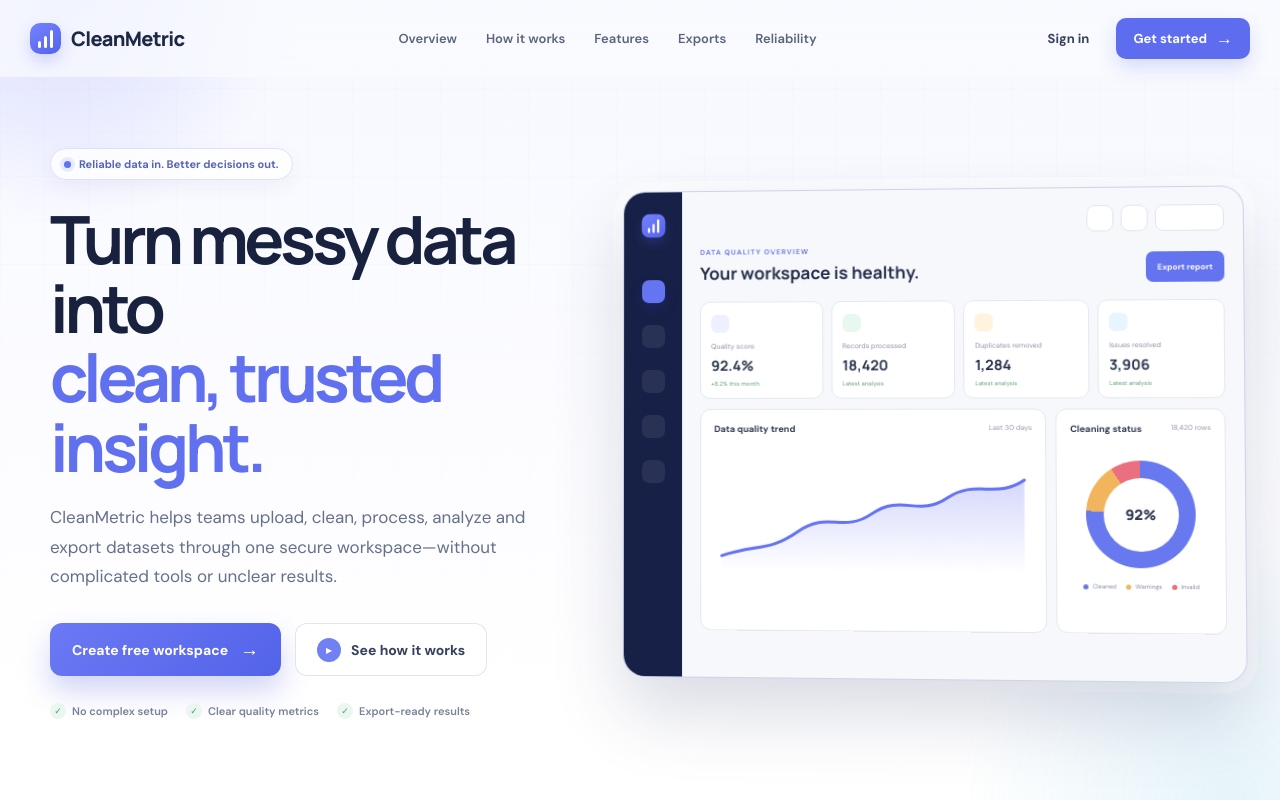
public CleanMetric website › opens the login page only after the sign-in action
The image size is (1280, 800).
Step 1. Click the link "Sign in" → (1068, 38), box [1048, 30, 1089, 46]
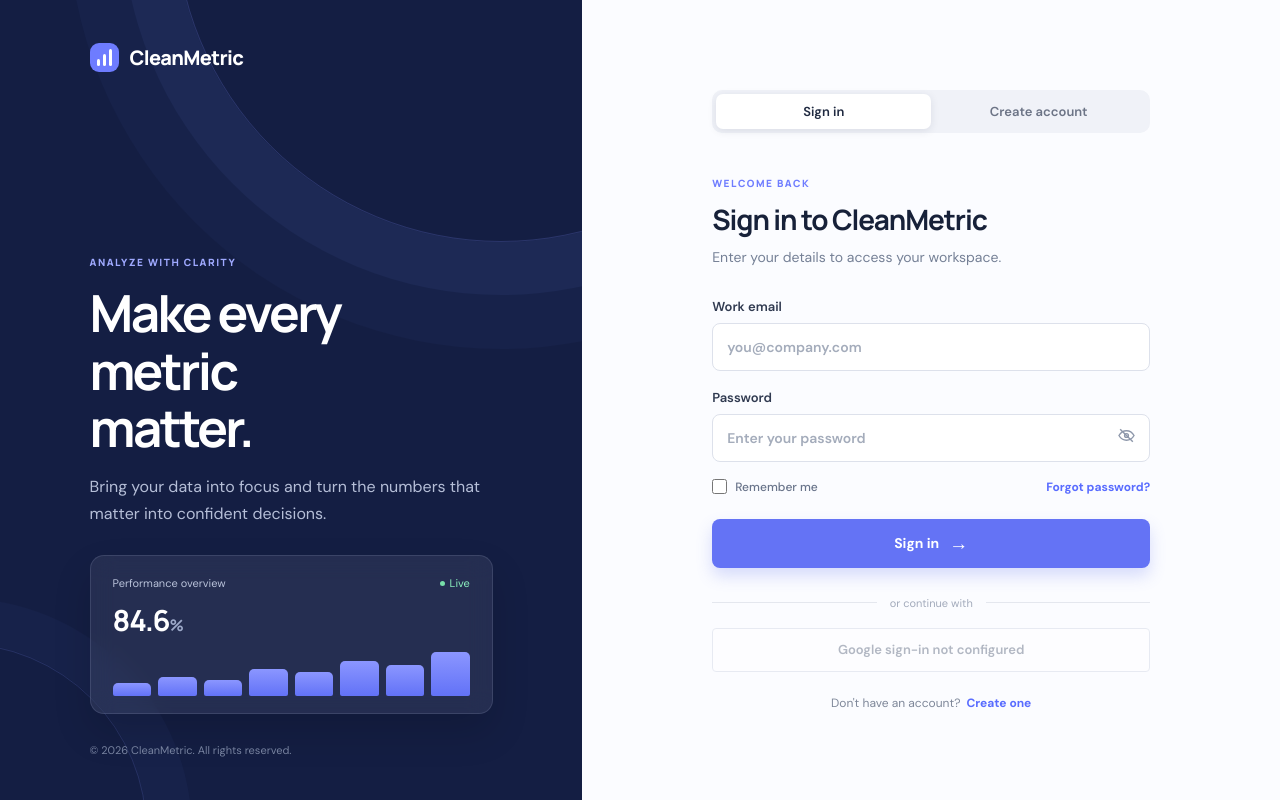
Check: the heading "Sign in to CleanMetric" is shown, box [712, 200, 987, 238]
